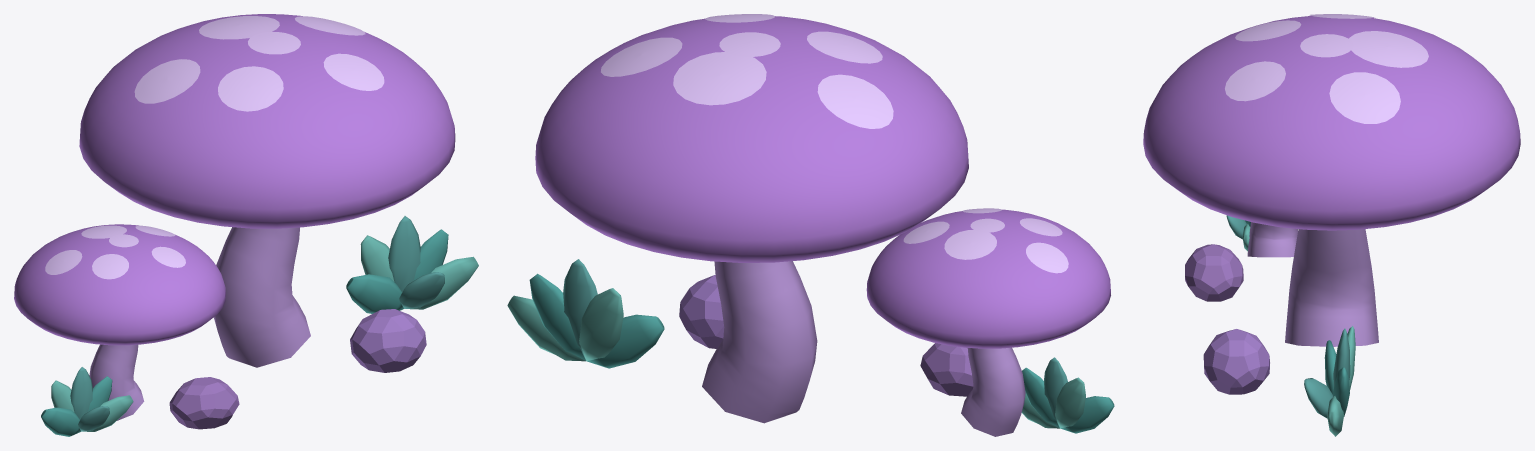
The model's file is mushroom_cluster_REMADE.glb.
The picture shows the model from 3 angles, left to right: view 1: azimuth 30°, elevation 25°; view 2: azimuth 150°, elevation 25°; view 3: azimuth 270°, elevation 25°; orthographic projection. The views are drawn at different scales.
Visible parts, largest first — view 1: mushroom_cluster_REMADE_visual; view 2: mushroom_cluster_REMADE_visual; view 3: mushroom_cluster_REMADE_visual.
Part boxes in pixels (bbox=[...]): mushroom_cluster_REMADE_visual: bbox=[14, 14, 478, 436]; mushroom_cluster_REMADE_visual: bbox=[507, 14, 1114, 436]; mushroom_cluster_REMADE_visual: bbox=[1143, 14, 1520, 436].
Size of the model in its own units: 2.4 by 1.47 by 1.63.
